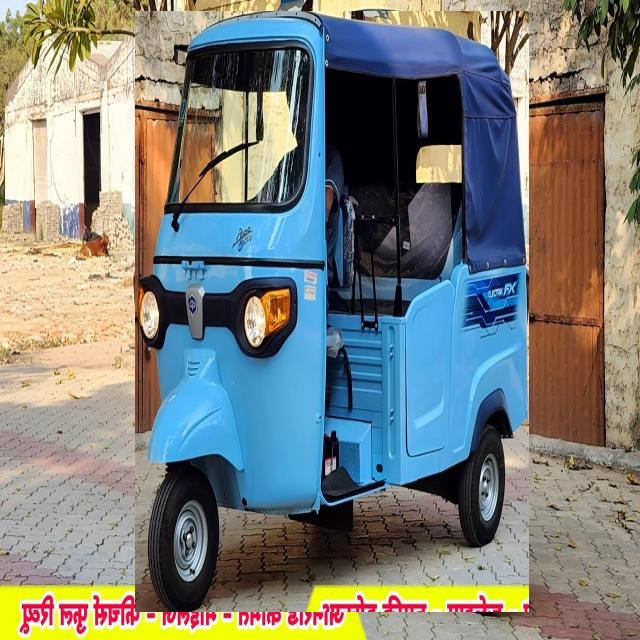autorickshaw: (135, 11, 529, 612)
